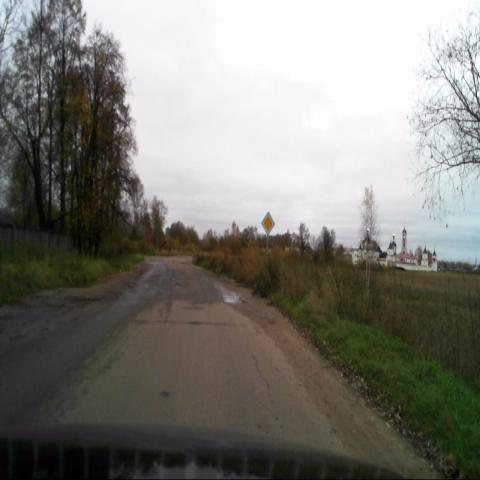2_1: (261, 212, 275, 236)
